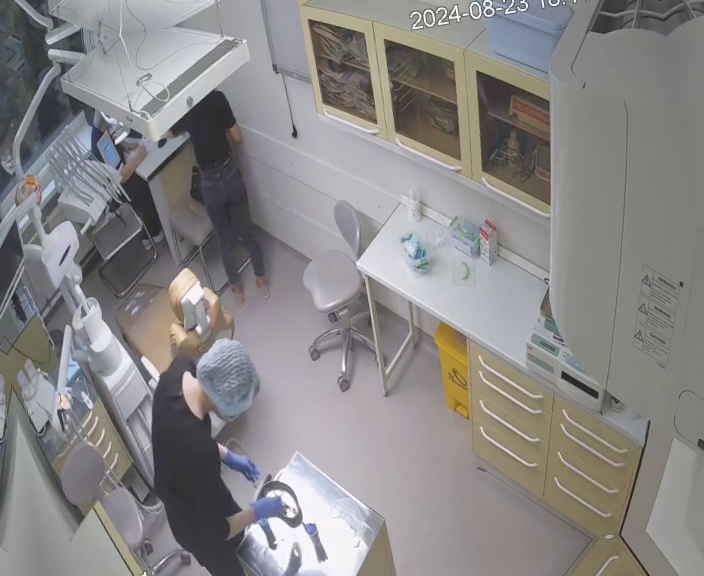Empty: (106, 260, 248, 405)
